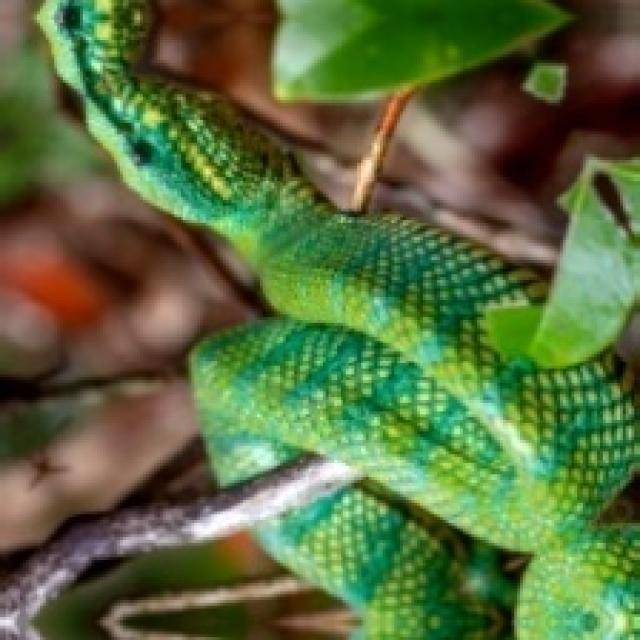north ph temple pitviper: (40, 0, 637, 637)
